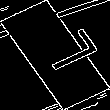L_SW: (18, 29, 92, 81)
